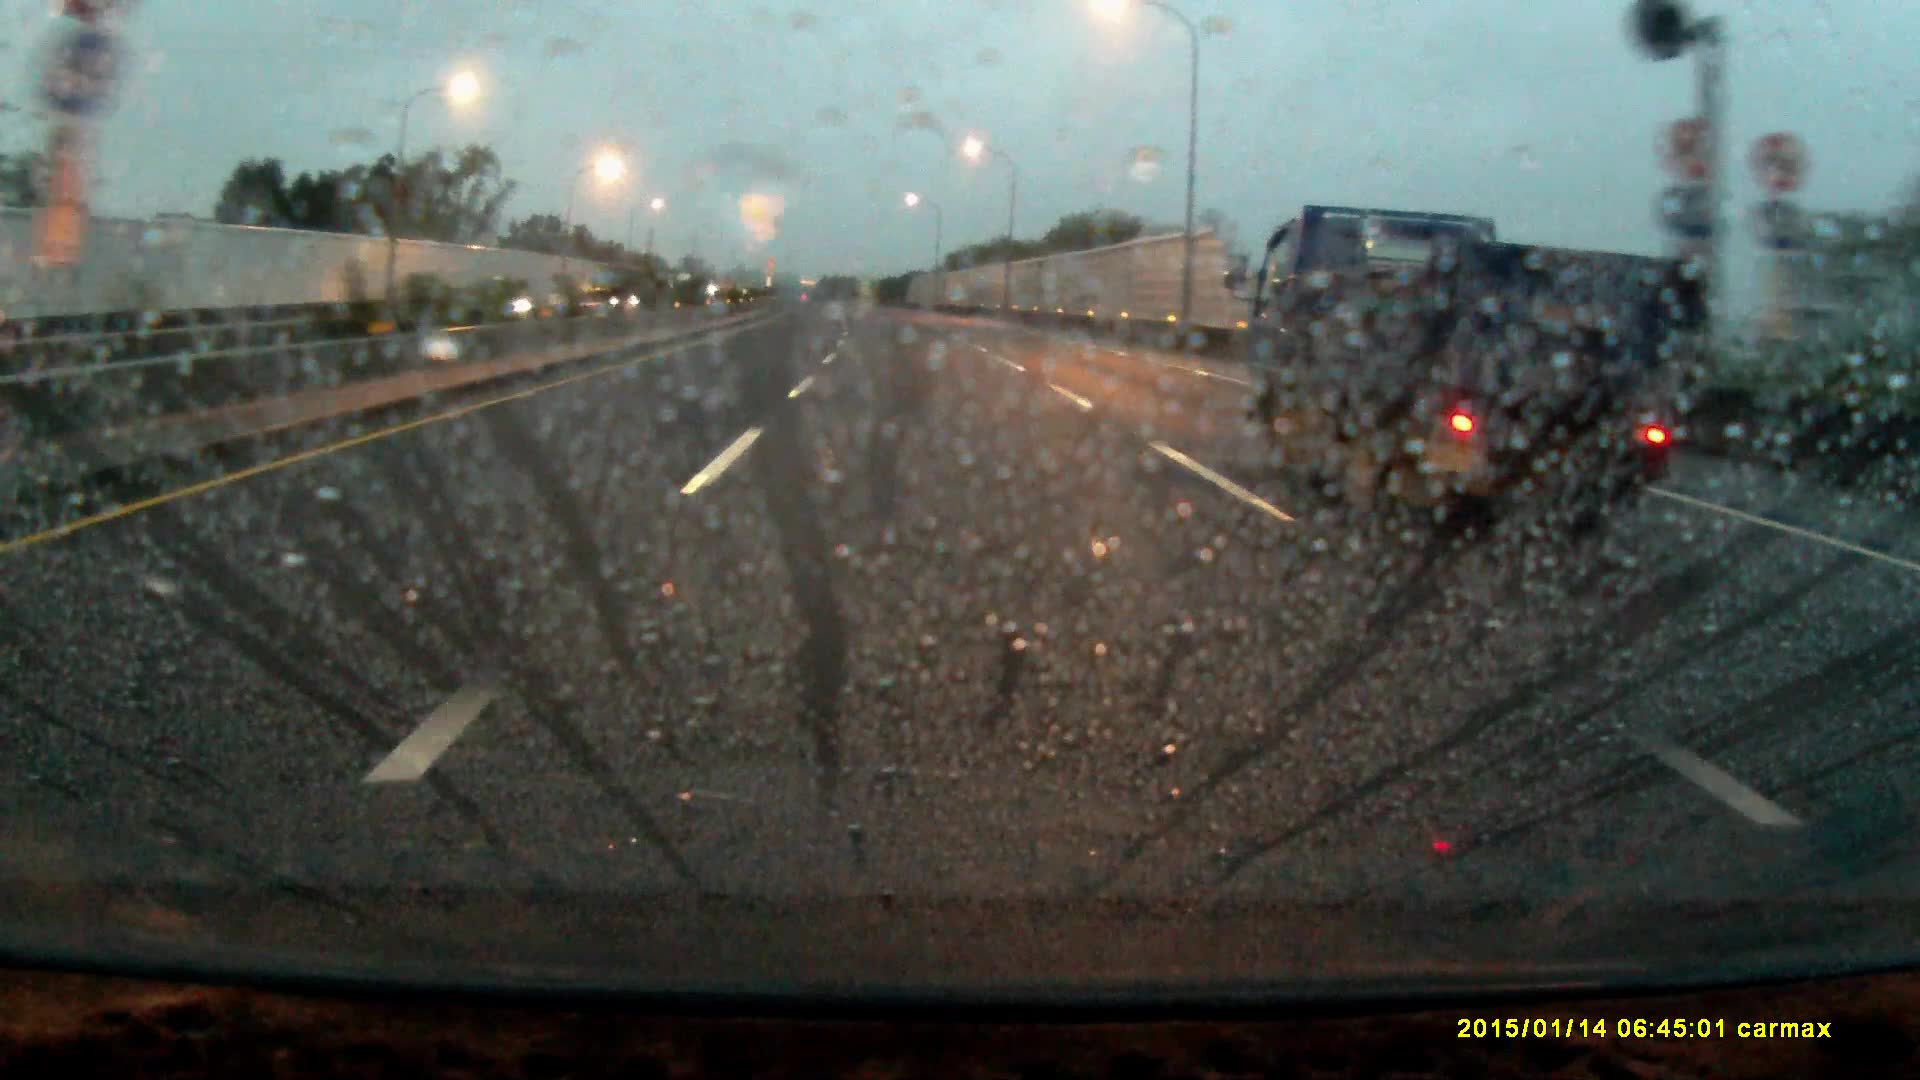vehicle: (1232, 202, 1722, 543)
